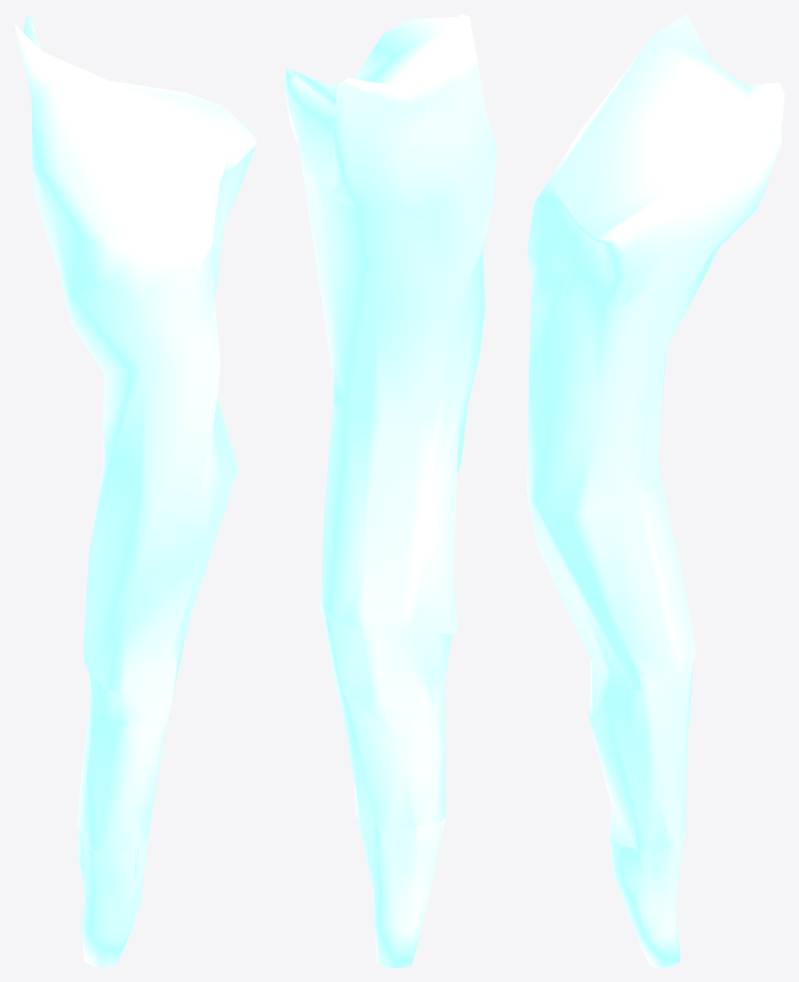
File: icicle2-glowing.glb
3 renders of one model, left to right at view 1: azimuth 30°, elevation 25°; view 2: azimuth 150°, elevation 25°; view 3: azimuth 270°, elevation 25°, orthographic. The views are drawn at different scales.
Parts seen in each view (by area): view 1: Cylinder.001; view 2: Cylinder.001; view 3: Cylinder.001.
Boxes of the visible parts, x1,y1,x2,y2 form: Cylinder.001: (14, 14, 256, 967); Cylinder.001: (285, 14, 497, 967); Cylinder.001: (526, 14, 784, 967).
Size of the model in its own units: 0.1386 by 0.6024 by 0.1548.
Materials: 1 (1 with a texture image).
